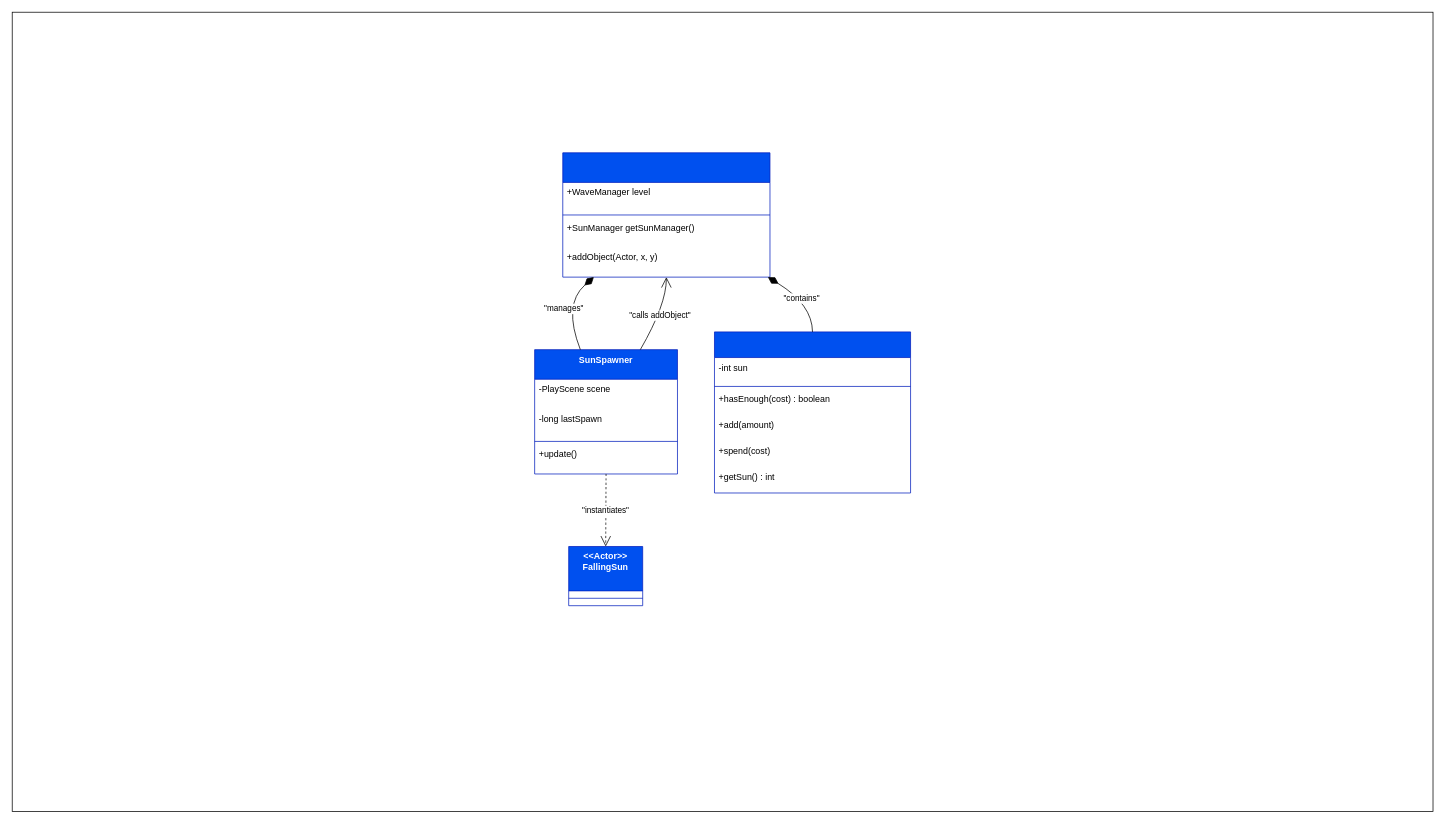
Image size: 1445x824. Some labels were removed from this diagram. The box of each missing label's shape, as (x1, y1, x2, y2) in pixels:
PlayScene: (562, 152, 770, 277)
SunManager: (714, 331, 911, 493)
